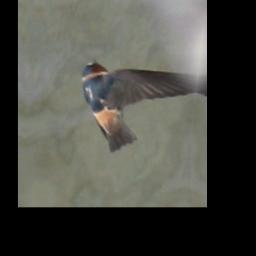Swallow: (69, 58, 199, 158)
